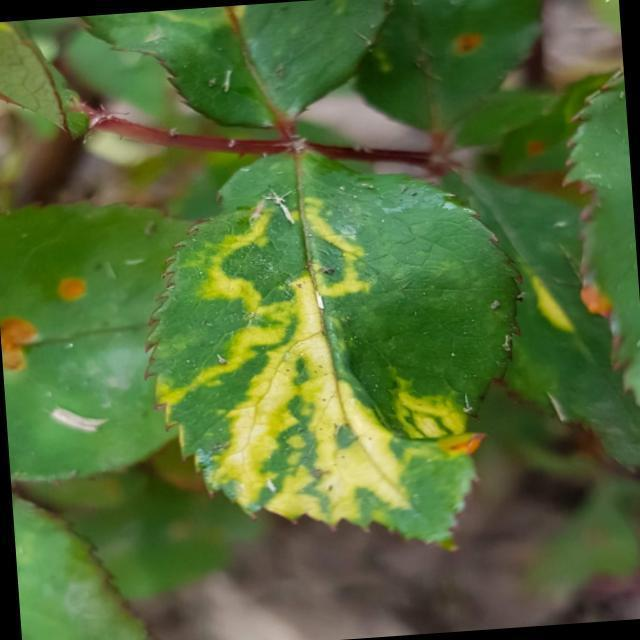Mosaic Virus: (163, 143, 479, 541)
